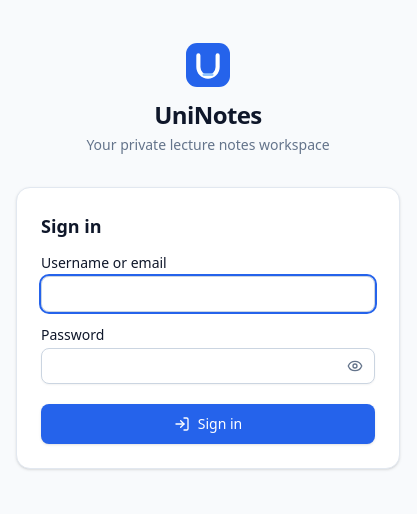
Test case: login and route guards › shows a generic error on bad credentials and clears the password
Type "sam" into the field labelled "Username or email".
click(208, 294); type("sam")  # box left=41, top=276, right=375, bottom=312
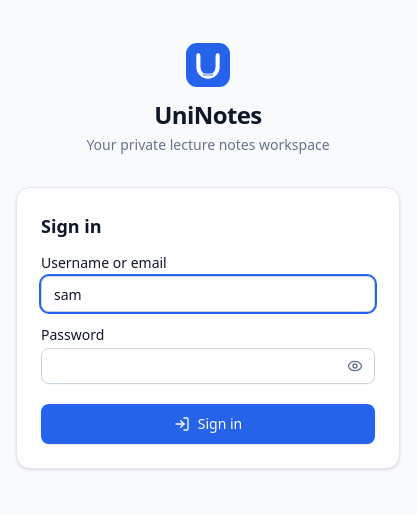
Type "wrong" into the password field labelled "Password".
click(208, 366); type("wrong")  # box left=41, top=348, right=375, bottom=384
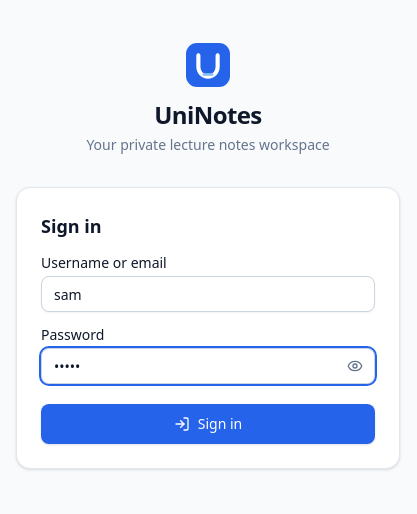
Click the button "Sign in".
click(208, 424)  # box left=41, top=404, right=375, bottom=444
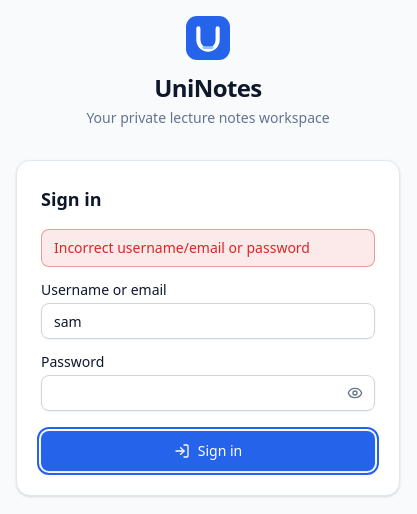
Result: the message reads "Incorrect username/email or password" at left=54, top=238, right=310, bottom=257
Result: the password field labelled "Password" is empty at left=41, top=375, right=375, bottom=411
